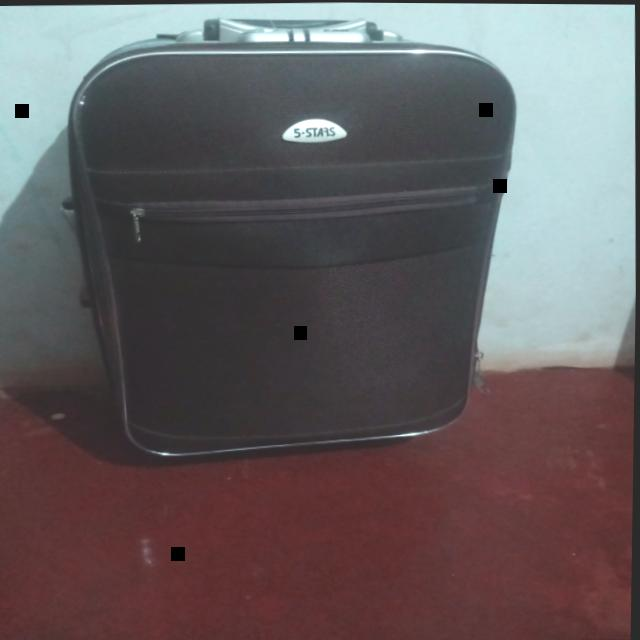luggage: (53, 6, 528, 472)
